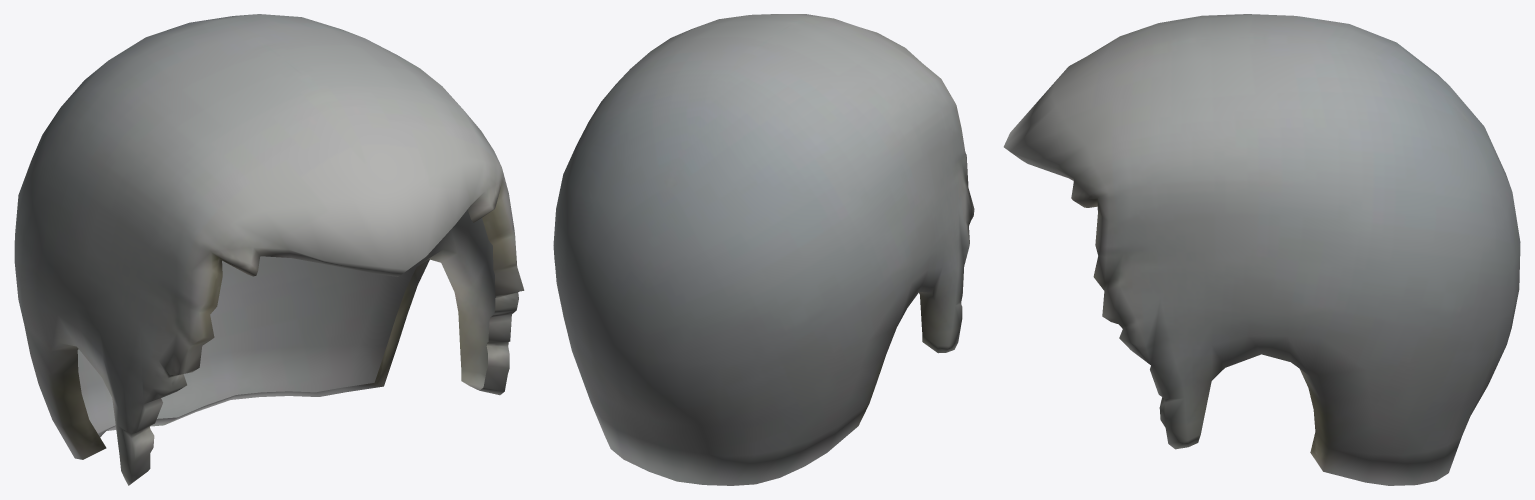
File: hair_Hair_Buzzed.glb
3 views of the same model, side by side, from view 1: azimuth 30°, elevation 25°; view 2: azimuth 150°, elevation 25°; view 3: azimuth 270°, elevation 25° (orthographic). The views are drawn at different scales.
Parts seen in each view (by area): view 1: Hair_Buzzed; view 2: Hair_Buzzed; view 3: Hair_Buzzed.
Part boxes in pixels (<box>): Hair_Buzzed: <box>14,14,524,485</box>; Hair_Buzzed: <box>553,14,974,485</box>; Hair_Buzzed: <box>1003,14,1520,485</box>.
Bounding box in the file's own units: 0.1546 × 0.1694 × 0.1909.
Materials: 1 (1 with a texture image).
